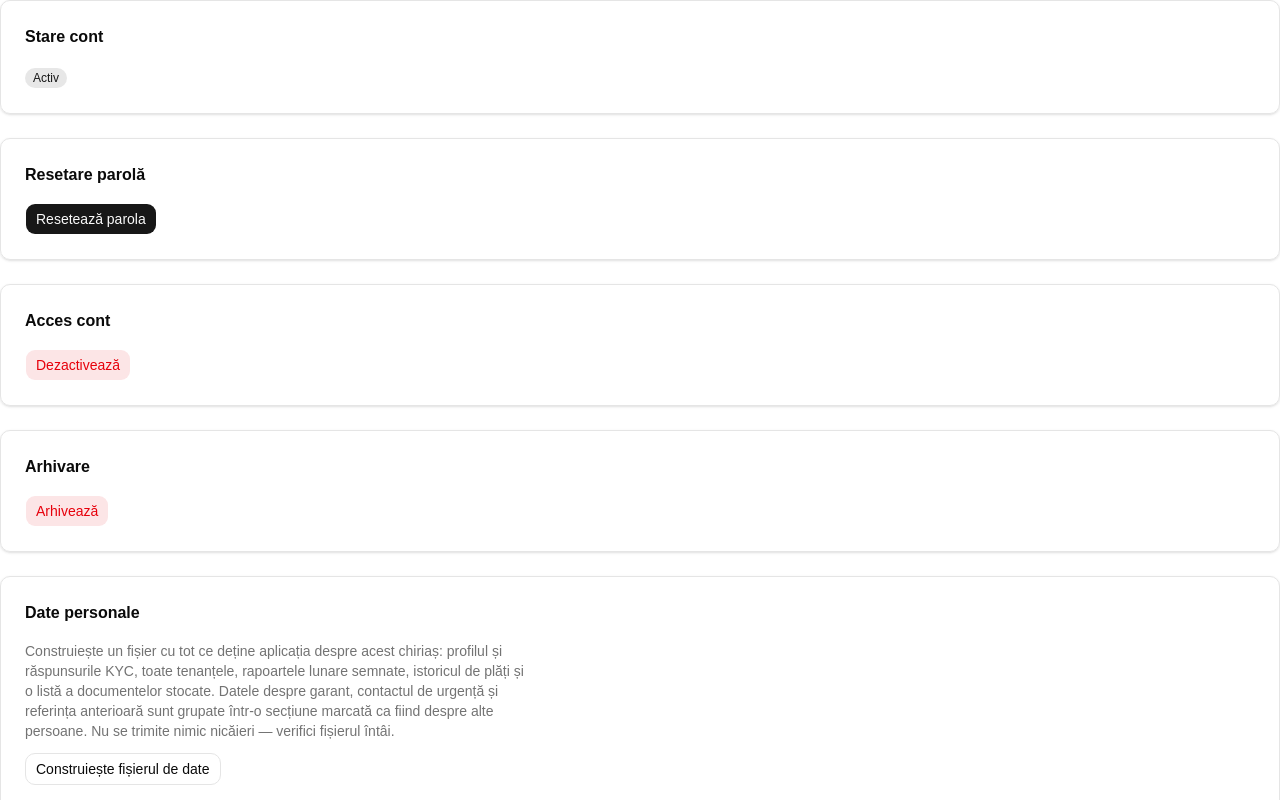
Test: AccountTab — Reset password › opens a dialog with the generated password after reset
What coordinates should you click on to do the following:
click the button "Resetează parola"
I would click on:
 (91, 219)
Its box is [25, 203, 157, 235].
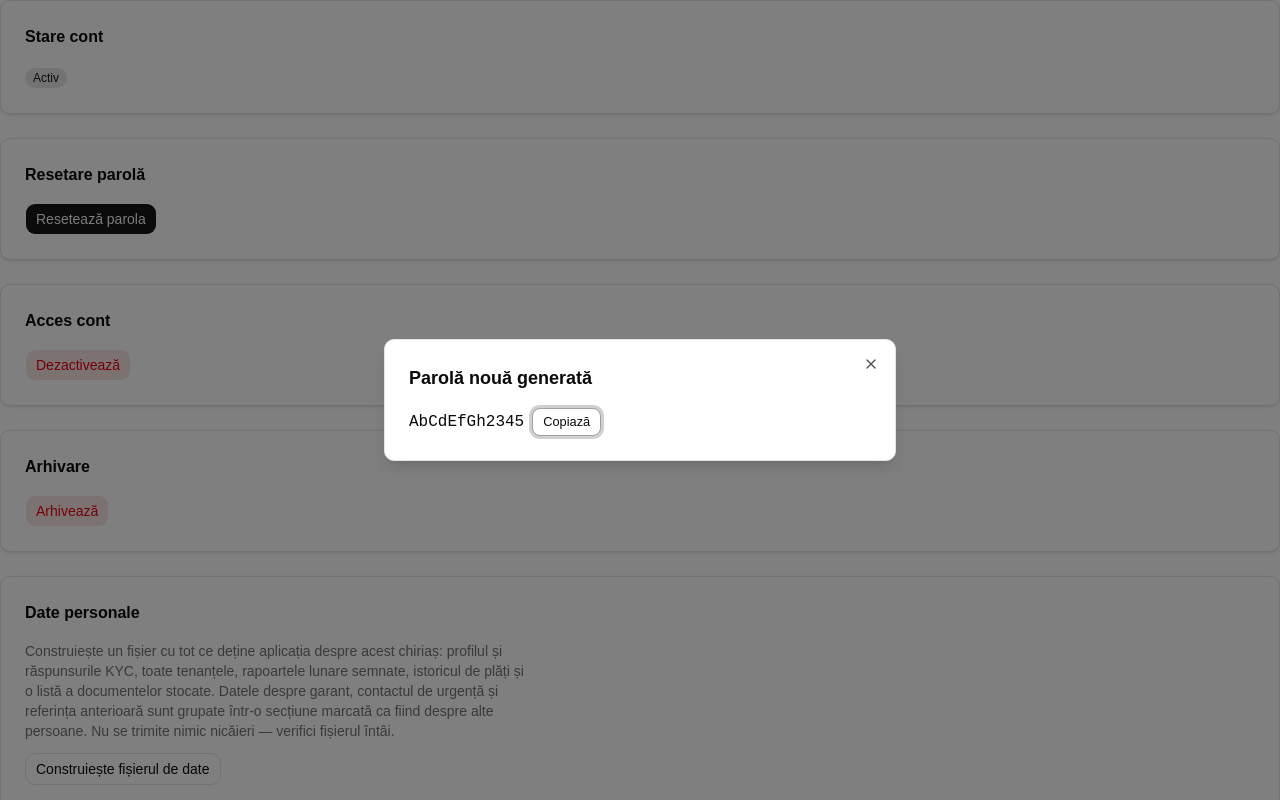
Check: the text "AbCdEfGh2345" is shown, box [409, 410, 524, 434]
